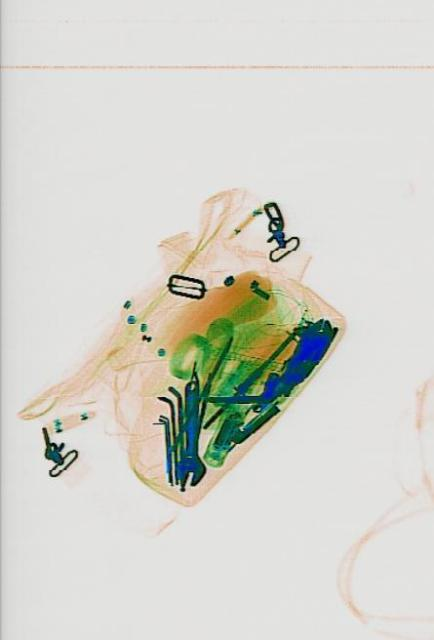Wrench: (172, 378, 204, 487)
